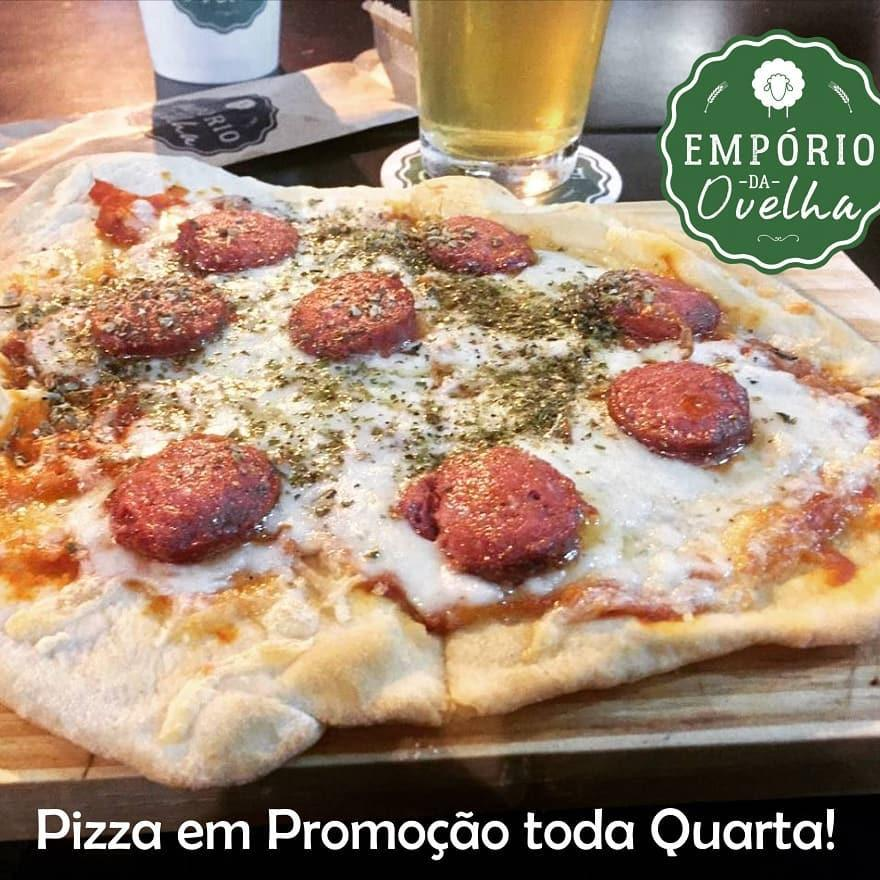Pepperoni: (407, 451, 586, 568), (107, 439, 280, 546), (597, 361, 754, 453), (94, 277, 229, 357), (291, 271, 413, 352), (594, 271, 725, 342), (176, 207, 299, 269), (422, 214, 534, 275)
Pizza: (0, 159, 880, 790)
